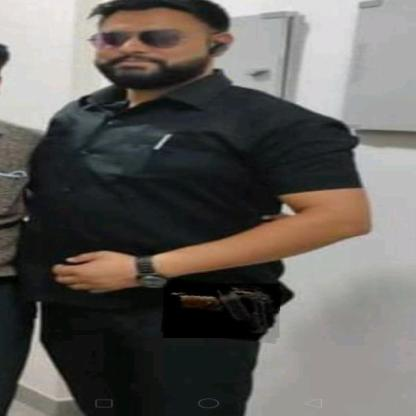handgun: (162, 281, 281, 341)
